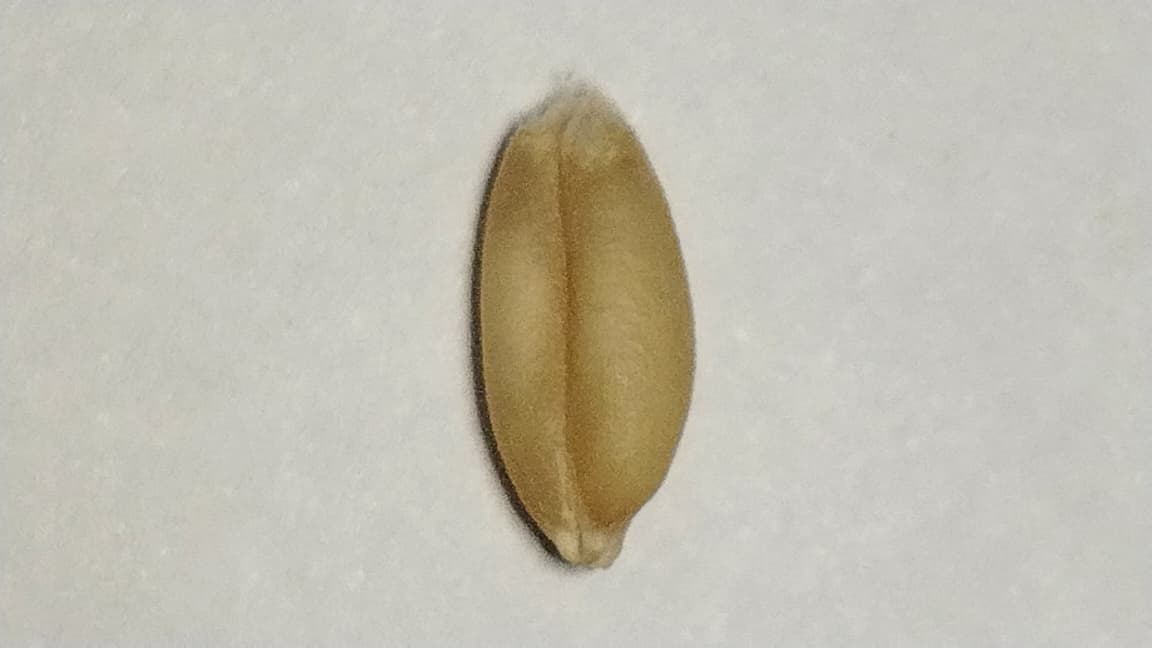healthy: (474, 87, 694, 545)
